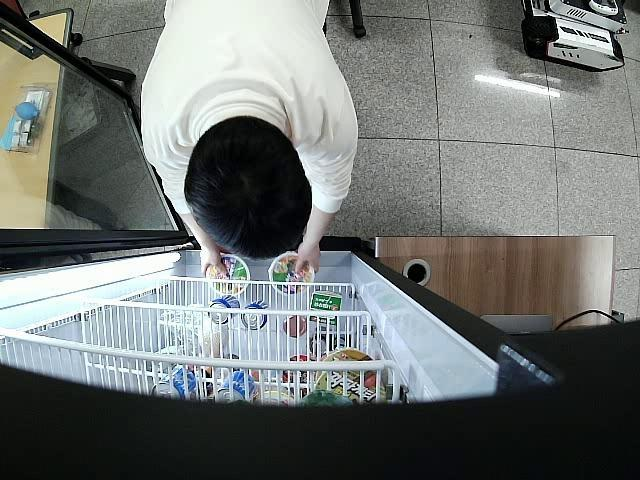09_yukGaeJang: (268, 251, 316, 296), (204, 254, 250, 297)
